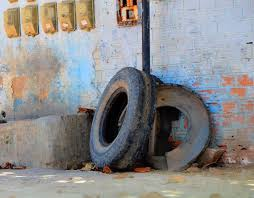tire: (129, 80, 212, 175), (89, 66, 157, 174)
